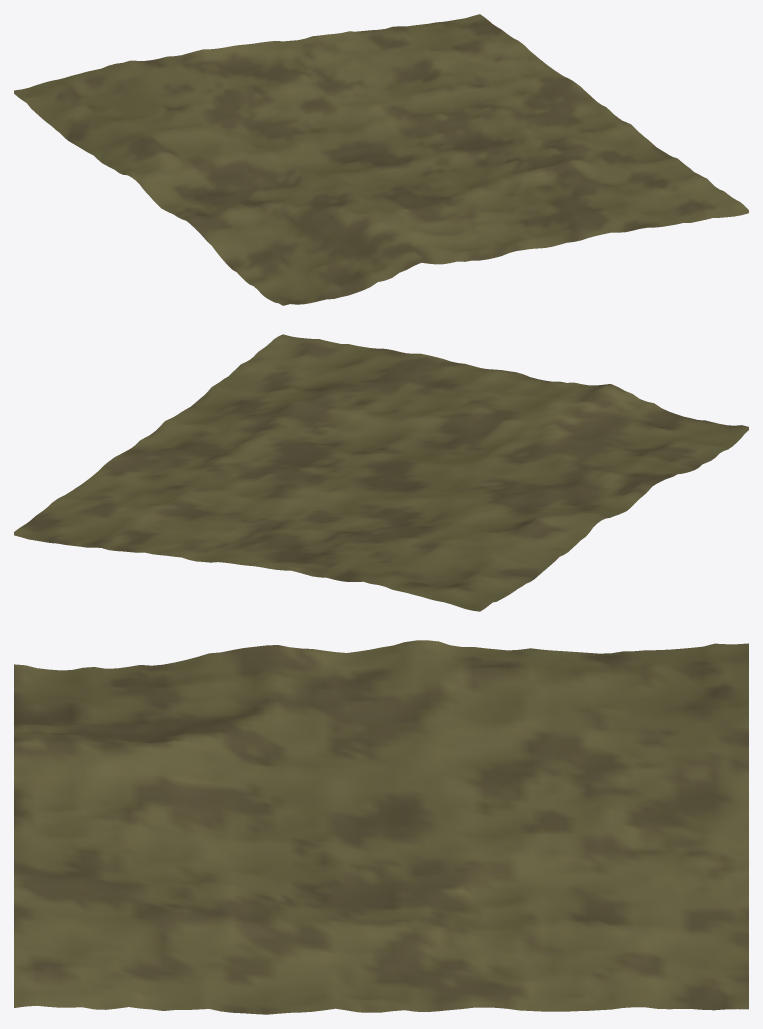
File: land_f_02_05.glb
The picture shows the model from 3 angles, top to bottom: view 1: azimuth 30°, elevation 25°; view 2: azimuth 150°, elevation 25°; view 3: azimuth 270°, elevation 25°; orthographic projection. The views are drawn at different scales.
Parts seen in each view (by area): view 1: land_f_02_05; view 2: land_f_02_05; view 3: land_f_02_05.
Boxes of the visible parts, x1,y1,x2,y2 form: land_f_02_05: (14, 14, 748, 305); land_f_02_05: (14, 334, 748, 611); land_f_02_05: (14, 640, 748, 1014).
Bounding box in the file's own units: 3840 × 378 × 3840.
